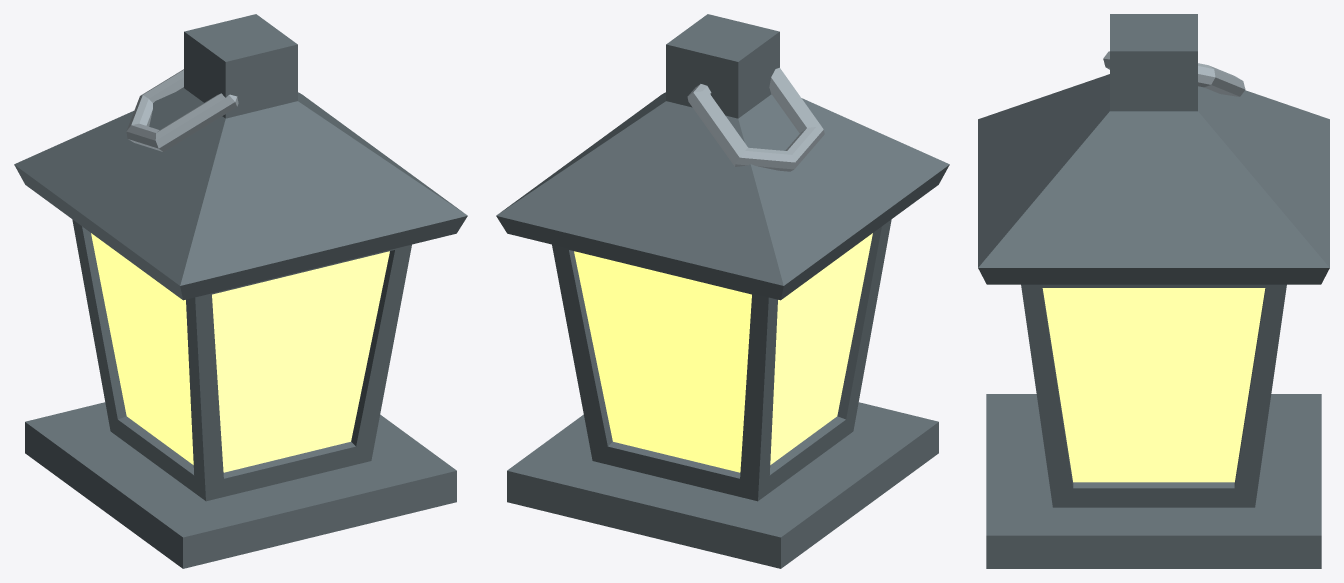
File: WoodLantern.glb
3 views of the same model, side by side, from view 1: azimuth 30°, elevation 25°; view 2: azimuth 150°, elevation 25°; view 3: azimuth 270°, elevation 25° (orthographic). The views are drawn at different scales.
Visible parts, largest first — view 1: Torus, Cube; view 2: Torus, Cube; view 3: Torus, Cube.
Boxes of the visible parts, box(x1,y1,x2,y2) form: Torus: box(14, 14, 467, 568); Cube: box(91, 233, 389, 472); Torus: box(496, 14, 949, 568); Cube: box(574, 233, 872, 472); Torus: box(978, 14, 1329, 568); Cube: box(1042, 288, 1265, 482).
Bounding box in the file's own units: 1.22 × 1.78 × 1.22.
